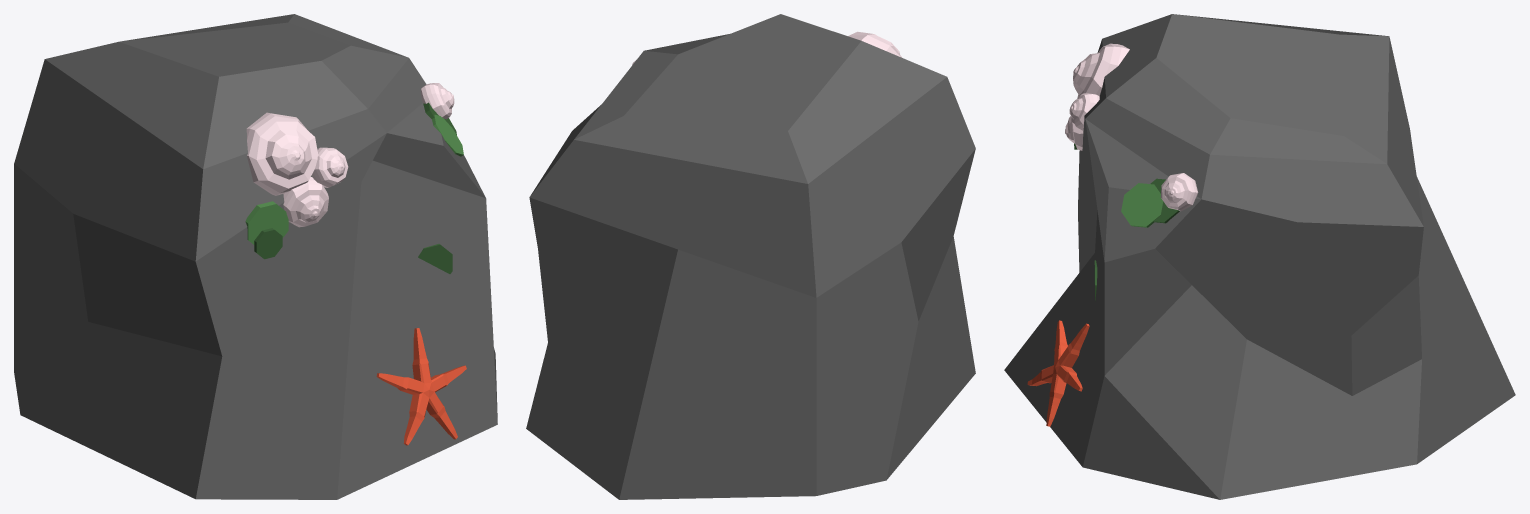
The model's file is rocastest.fbx.
3 renders of one model, left to right at view 1: azimuth 30°, elevation 25°; view 2: azimuth 150°, elevation 25°; view 3: azimuth 270°, elevation 25°, orthographic. The views are drawn at different scales.
Visible parts, largest first — view 1: roca, roca.001; view 2: roca; view 3: roca, roca.001.
Part boxes in pixels (box(x1,y1,x2,y2)): roca: box(14, 14, 497, 499); roca.001: box(376, 328, 466, 445); roca: box(526, 14, 975, 499); roca: box(1004, 14, 1515, 499); roca.001: box(1027, 320, 1089, 426).
Bounding box in the file's own units: 273 × 236 × 311.
